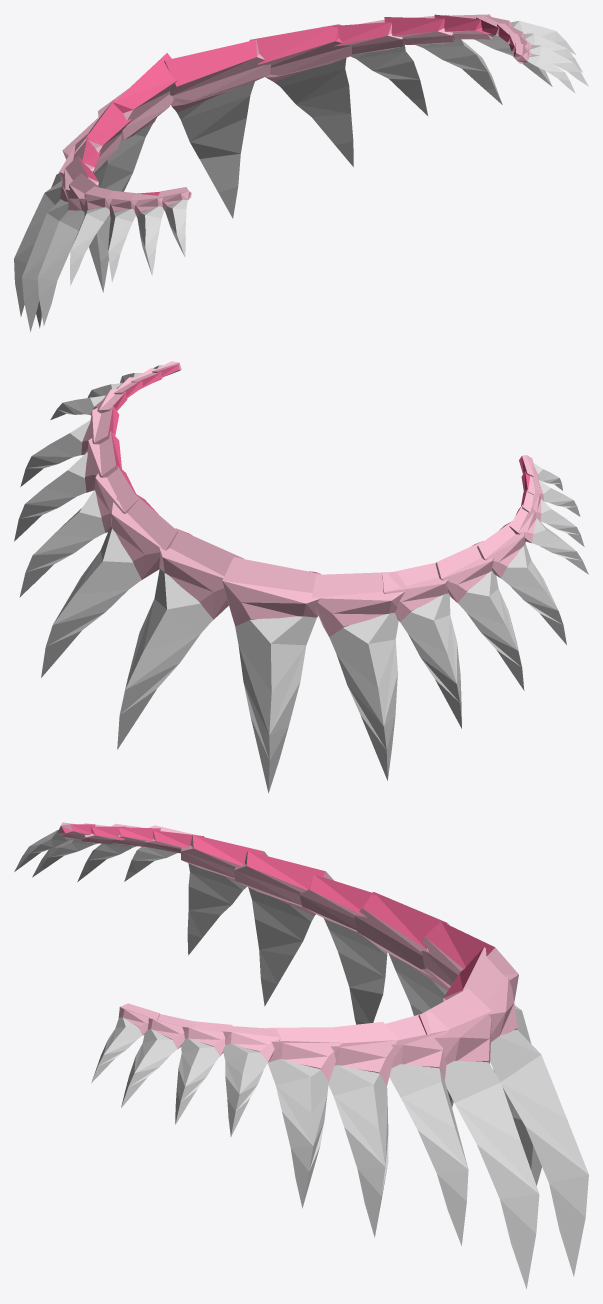
3 views of the same model, one above another, from view 1: azimuth 30°, elevation 25°; view 2: azimuth 150°, elevation 25°; view 3: azimuth 270°, elevation 25° (orthographic). The views are drawn at different scales.
Parts seen in each view (by area): view 1: group_775173148, mesh_2062884796, group_1830049063, mesh_126289314, mesh_1035787740, group_1688784022, group_530824527, group_348429536, group_998101702, mesh_46180860, group_1097471629, mesh_1151164973 (+19 smaller); view 2: group_1688784022, group_775173148, group_2041456493, group_1830049063, mesh_1035787740, mesh_46180860, group_1513417120, mesh_2062884796, mesh_126289314, group_998101702, group_348429536, group_530824527 (+12 smaller); view 3: group_775173148, group_1830049063, group_348429536, group_1097471629, group_1021984469, mesh_46180860, group_998101702, mesh_126289314, group_1513417120, mesh_1035787740, mesh_2073799731, mesh_2062884796 (+23 smaller).
Boxes of the visible parts, left/top/right/bottom form: group_775173148: left=177, top=81, right=254, bottom=218; mesh_2062884796: left=164, top=40, right=270, bottom=112; group_1830049063: left=274, top=58, right=353, bottom=166; mesh_126289314: left=249, top=24, right=351, bottom=81; mesh_1035787740: left=98, top=53, right=178, bottom=140; group_1688784022: left=89, top=123, right=152, bottom=292; group_530824527: left=37, top=210, right=84, bottom=325; group_348429536: left=350, top=44, right=427, bottom=115; group_998101702: left=22, top=199, right=68, bottom=332; mesh_46180860: left=62, top=99, right=131, bottom=173; group_1097471629: left=416, top=39, right=502, bottom=104; mesh_1151164973: left=323, top=19, right=403, bottom=55; group_1688784022: left=235, top=616, right=316, bottom=793; group_775173148: left=117, top=569, right=213, bottom=749; group_2041456493: left=329, top=613, right=398, bottom=780; group_1830049063: left=41, top=527, right=141, bottom=677; mesh_1035787740: left=222, top=557, right=321, bottom=626; mesh_46180860: left=312, top=572, right=406, bottom=636; group_1513417120: left=400, top=593, right=461, bottom=728; mesh_2062884796: left=159, top=528, right=243, bottom=619; mesh_126289314: left=111, top=491, right=177, bottom=580; group_998101702: left=458, top=570, right=524, bottom=690; group_348429536: left=19, top=490, right=105, bottom=597; group_530824527: left=501, top=543, right=566, bottom=644; group_775173148: left=490, top=1029, right=588, bottom=1276; group_1830049063: left=445, top=1060, right=539, bottom=1288; group_348429536: left=389, top=1064, right=468, bottom=1245; group_1097471629: left=328, top=1065, right=388, bottom=1237; group_1021984469: left=267, top=1059, right=328, bottom=1208; mesh_46180860: left=354, top=892, right=449, bottom=990; group_998101702: left=248, top=887, right=314, bottom=1006; mesh_126289314: left=418, top=988, right=491, bottom=1064; group_1513417120: left=324, top=918, right=387, bottom=1024; mesh_1035787740: left=421, top=921, right=518, bottom=1001; mesh_2073799731: left=234, top=851, right=334, bottom=915; mesh_2062884796: left=443, top=947, right=517, bottom=1041.
Bounding box in the file's own units: 157 × 79.05 × 111.
